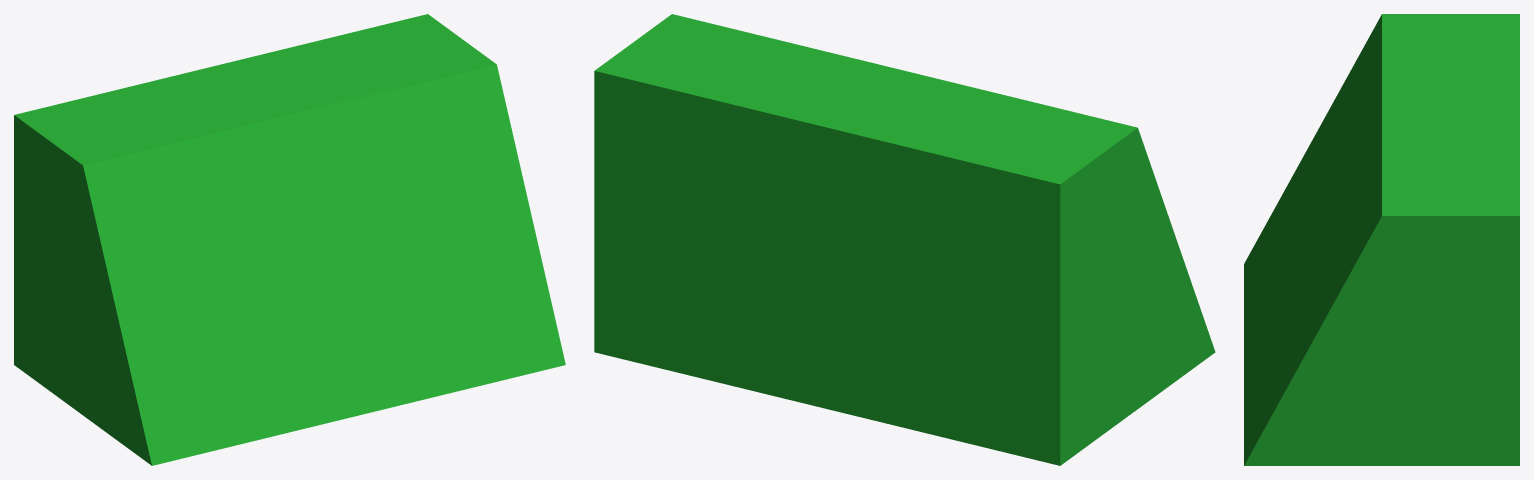
Rendered from cliff-right_edge.glb.
The picture shows the model from 3 angles, left to right: view 1: azimuth 30°, elevation 25°; view 2: azimuth 150°, elevation 25°; view 3: azimuth 270°, elevation 25°; orthographic projection. The views are drawn at different scales.
Parts seen in each view (by area): view 1: cliff-right_edge; view 2: cliff-right_edge; view 3: cliff-right_edge.
Boxes of the visible parts, x1=… form: cliff-right_edge: x1=14, y1=14, x2=565, y2=465; cliff-right_edge: x1=594, y1=14, x2=1215, y2=465; cliff-right_edge: x1=1244, y1=14, x2=1519, y2=465.
Size of the model in its own units: 0.866 by 0.5 by 0.5.
